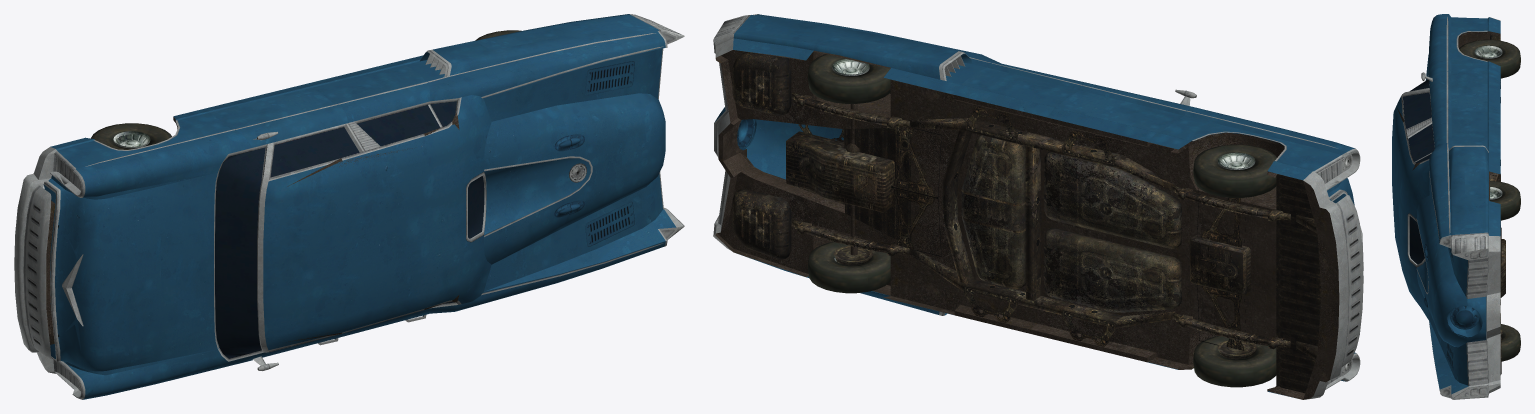
File: corvegaworking.obj
3 renders of one model, left to right at view 1: azimuth 30°, elevation 25°; view 2: azimuth 150°, elevation 25°; view 3: azimuth 270°, elevation 25°, orthographic. The views are drawn at different scales.
Visible parts, largest first — view 1: Car03_Clean:0, Object01:0, window:4, Object05:0, Object06:0, Object07:0, Object08:2, Object03:0; view 2: Car03_Clean:1, Car03_Clean:0, Object08:2, Object09:2, Object06:0, Object07:0, Object05:0; view 3: Car03_Clean:0, Object05:0, Object06:0, Object07:0, window:4, Object09:2, Object08:2, Car03_Clean:1, Object02:0, Object08:3, Object09:3.
Part boxes in pixels (x1,y1,x2,y2): Car03_Clean:0: (14,14,684,399); Object01:0: (55,172,218,371); window:4: (215,101,484,358); Object05:0: (556,93,665,230); Object06:0: (204,84,364,152); Object07:0: (304,62,442,127); Object08:2: (91,123,171,149); Object03:0: (247,332,347,371); Car03_Clean:1: (732,52,1321,393); Car03_Clean:0: (713,14,1363,399); Object08:2: (1193,144,1276,387); Object09:2: (808,54,890,293); Object06:0: (1047,83,1196,145); Object07:0: (954,63,1089,121); Object05:0: (745,119,843,179); Car03_Clean:0: (1392,14,1500,399); Object05:0: (1424,233,1467,347); Object06:0: (1406,72,1500,129); Object07:0: (1414,110,1500,162); window:4: (1403,79,1434,264); Object09:2: (1490,181,1520,361); Object08:2: (1459,39,1520,220); Car03_Clean:1: (1490,34,1505,374); Object02:0: (1450,306,1479,329); Object08:3: (1474,45,1502,58); Object09:3: (1490,187,1502,199).
Size of what is drawn, in the model's own units: 554 by 205 by 127.
